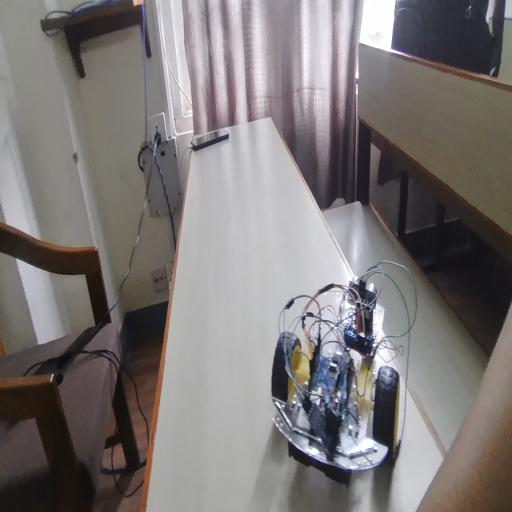car: (271, 255, 417, 501)
